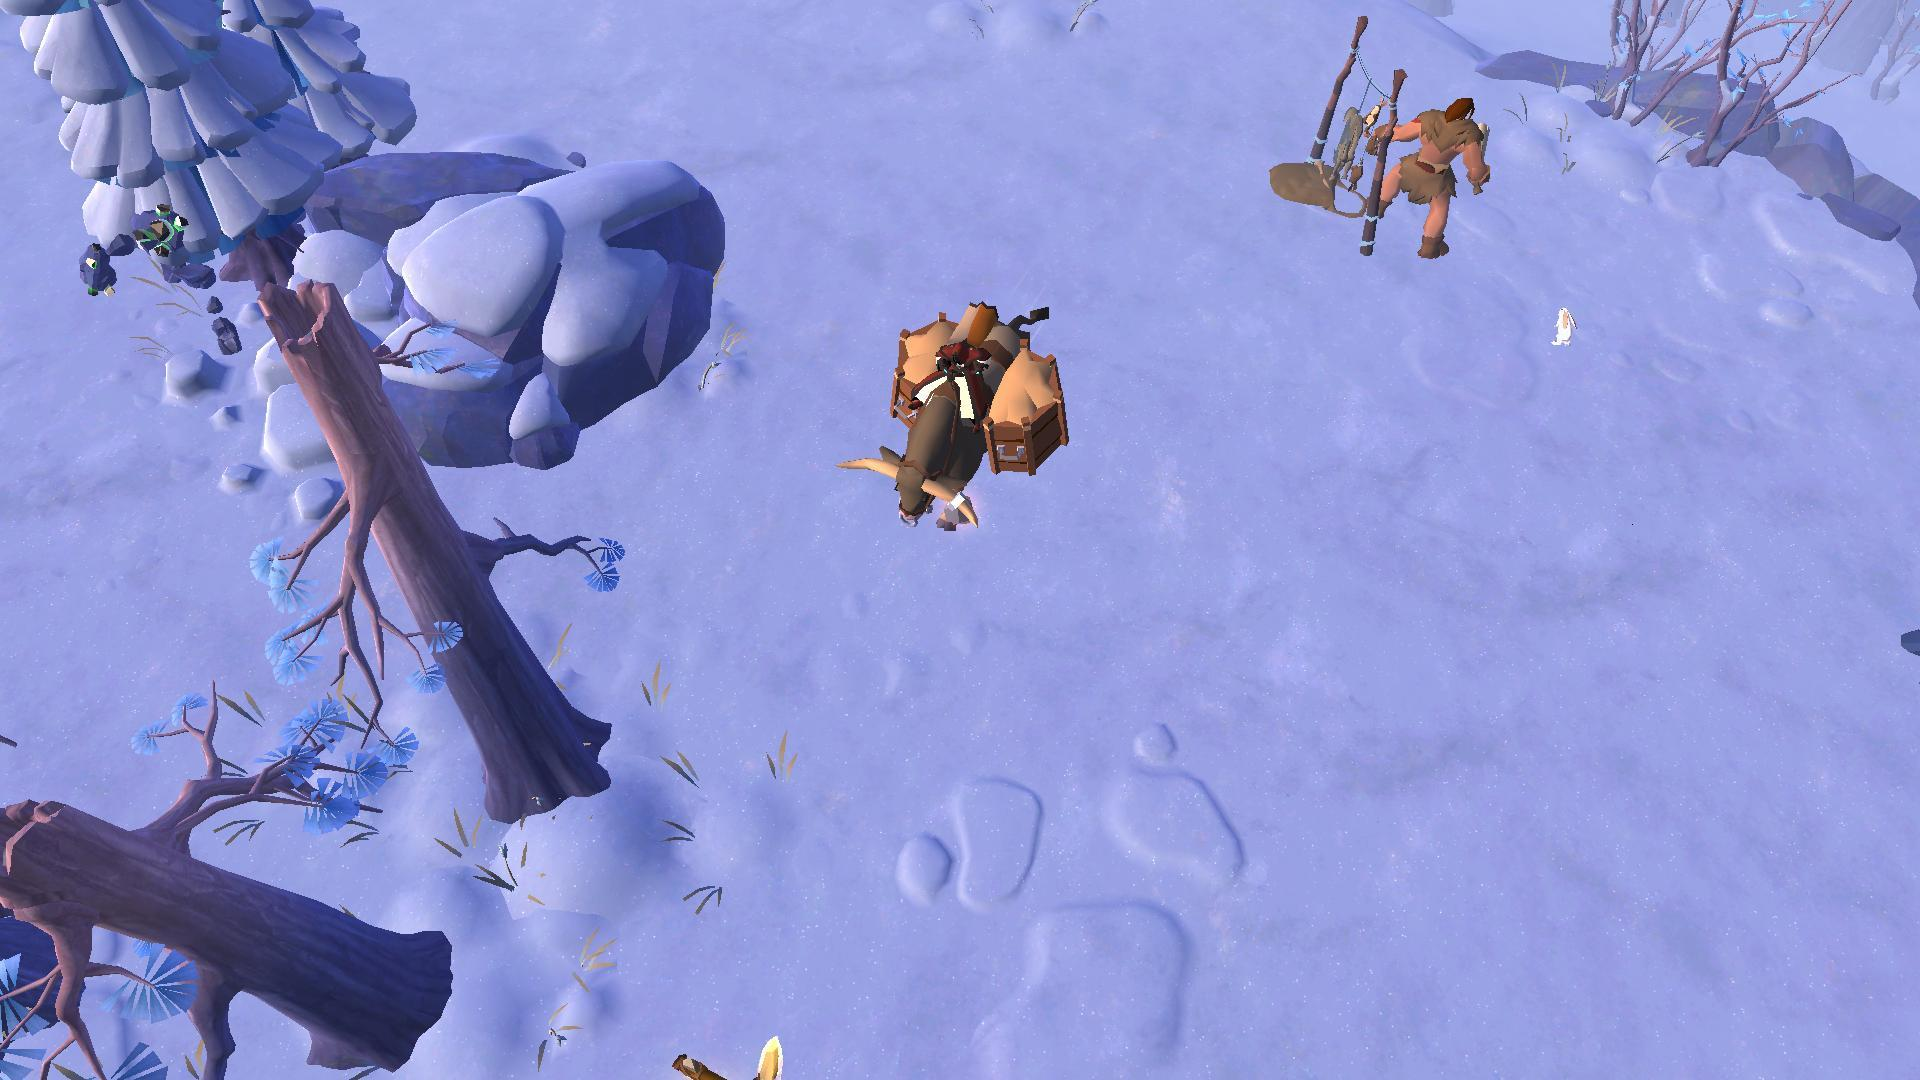enemy_factionKeeper: (1354, 99, 1493, 252)
